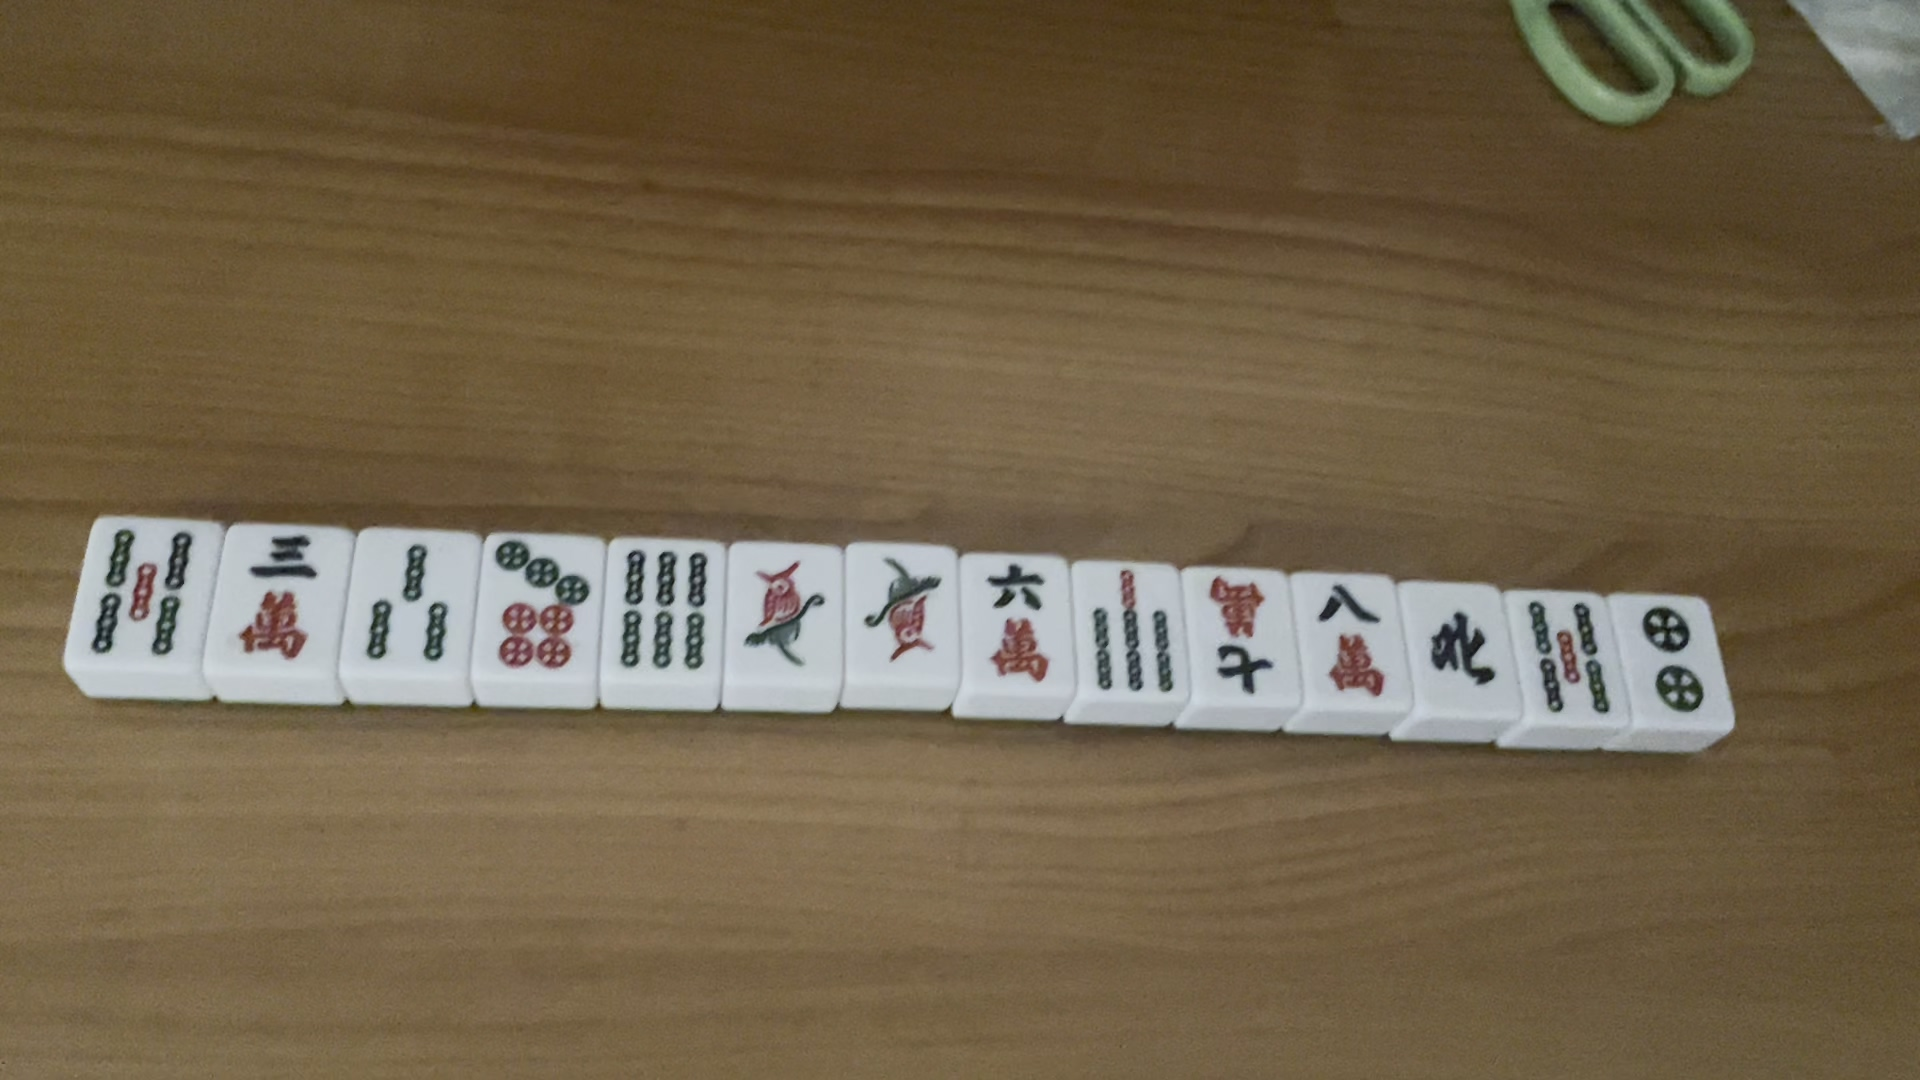b-1: (744, 554, 825, 669), (864, 555, 945, 670)
b-3: (357, 538, 452, 667)
b-5: (83, 522, 186, 655), (1519, 592, 1619, 717)
b-6: (615, 547, 713, 675)
b-7: (489, 541, 593, 666), (1091, 564, 1182, 698)
c-3: (225, 527, 326, 659)
c-6: (976, 559, 1068, 683)
c-7: (1191, 570, 1284, 698)
c-8: (1309, 575, 1389, 702)
d-2: (1636, 609, 1702, 717)
honors-north: (1422, 607, 1493, 688)
